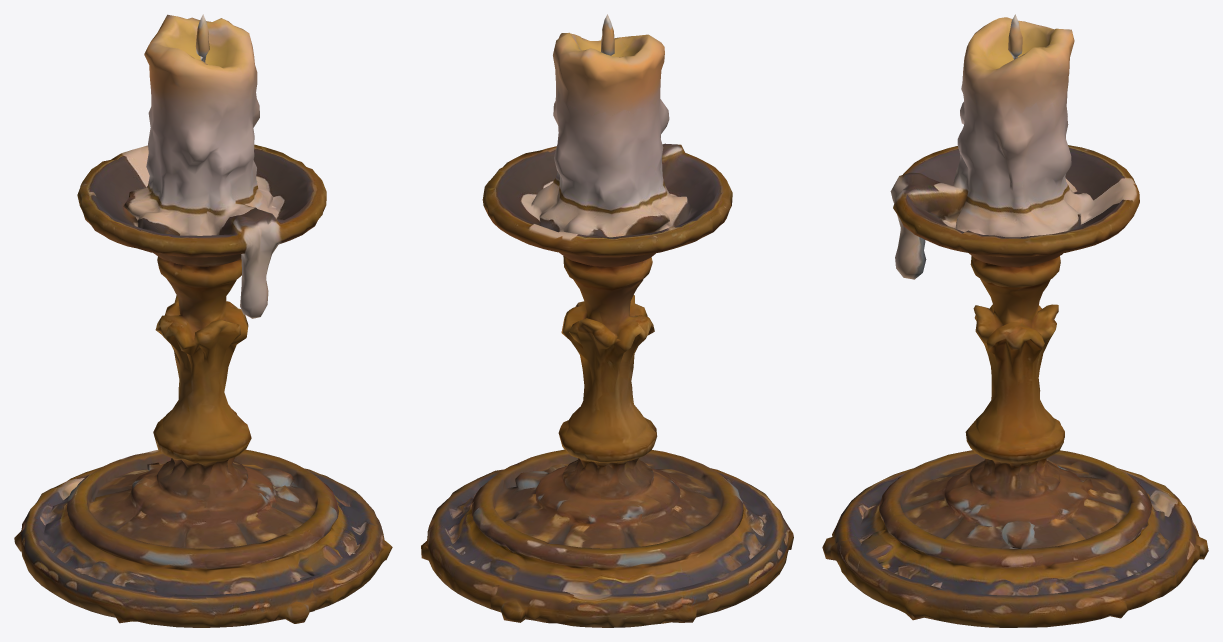
Rendered from candlestick.glb.
3 views of the same model, side by side, from view 1: azimuth 30°, elevation 25°; view 2: azimuth 150°, elevation 25°; view 3: azimuth 270°, elevation 25° (orthographic).
Bounding box in the file's own units: 0.6073 × 1 × 0.6464.
Materials: 1 (1 with a texture image).
